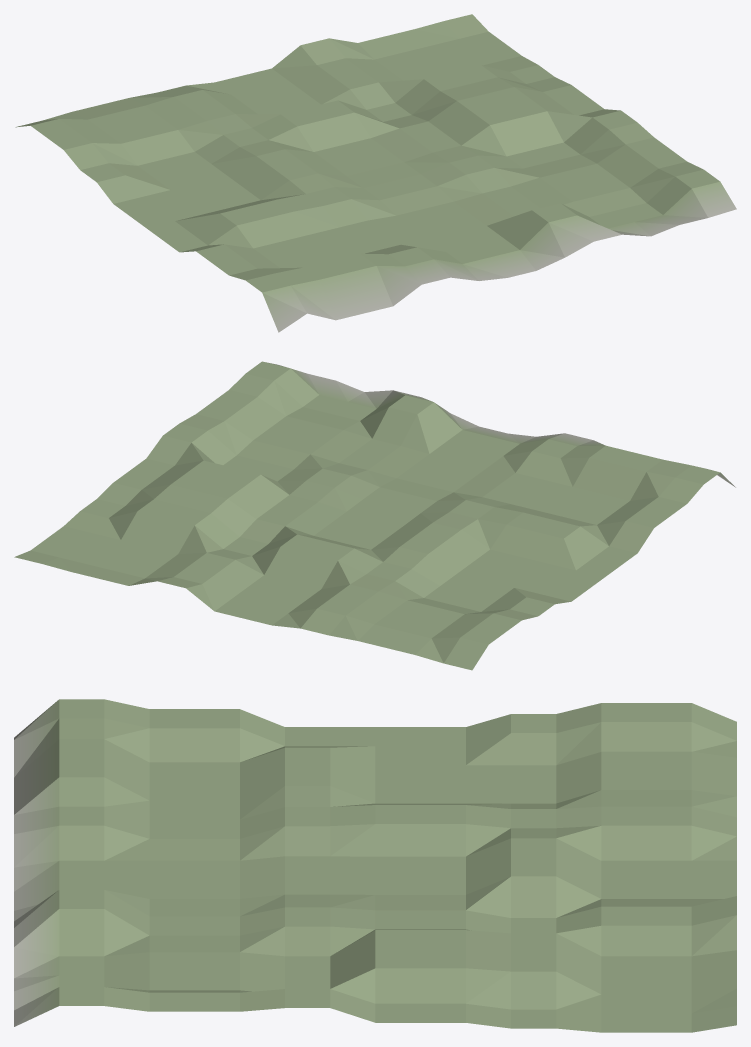
3 renders of one model, top to bottom at view 1: azimuth 30°, elevation 25°; view 2: azimuth 150°, elevation 25°; view 3: azimuth 270°, elevation 25°, orthographic. The views are drawn at different scales.
Bounding box in the file's own units: 32 × 2 × 32.
